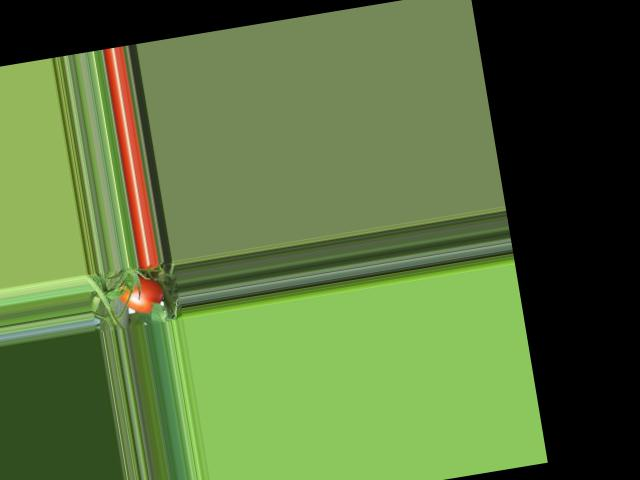tomato: (118, 273, 166, 316)
